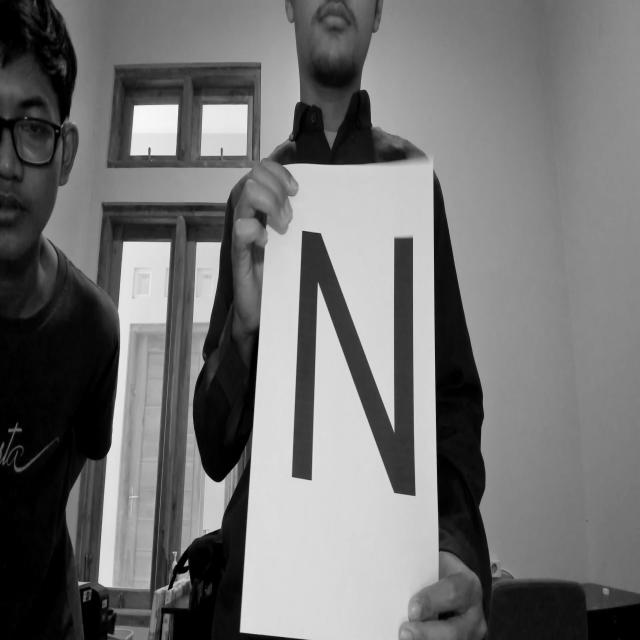n: (283, 224, 427, 516)
